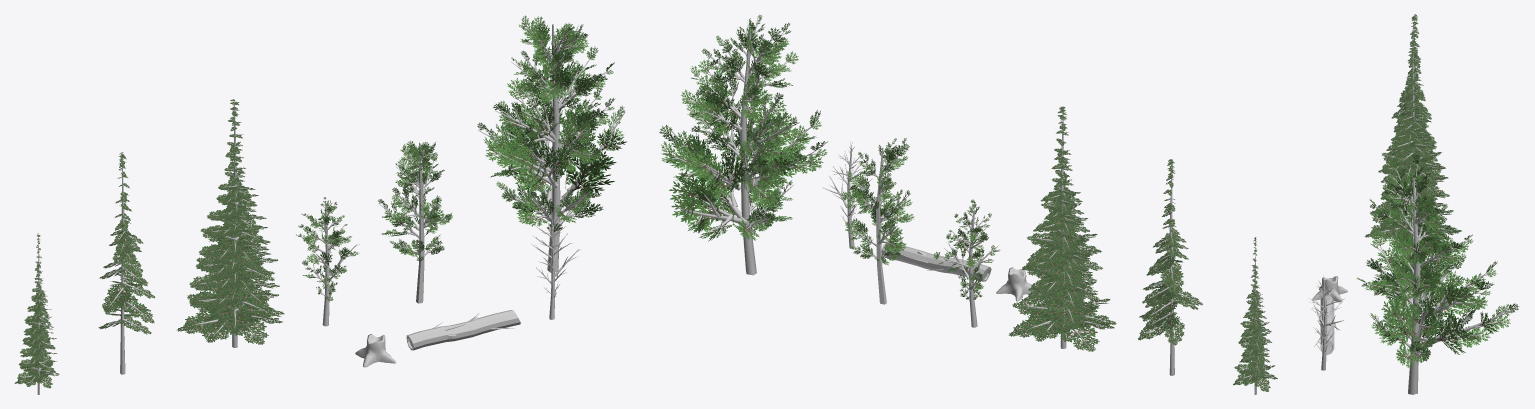
The model's file is Trees.fbx.
3 renders of one model, left to right at view 1: azimuth 30°, elevation 25°; view 2: azimuth 150°, elevation 25°; view 3: azimuth 270°, elevation 25°, orthographic. The views are drawn at different scales.
Parts seen in each view (by area): view 1: TreeL, FirTreeL, TreeM, FirTreeM, FirTreeS, TreeS, pCylinder755, pPlane1249, pCylinder756; view 2: TreeL, FirTreeL, TreeM, FirTreeM, TreeS, FirTreeS, pCylinder755, pPlane1249, pCylinder756; view 3: TreeL, FirTreeL, FirTreeM, pPlane1249, pCylinder755, TreeM, pCylinder756.
Part boxes in pixels (x1,y1,x2,y2): TreeL: (477, 15, 626, 272); FirTreeL: (176, 99, 284, 347); TreeM: (378, 141, 452, 303); FirTreeM: (98, 152, 155, 374); FirTreeS: (14, 233, 59, 394); TreeS: (296, 197, 359, 326); pCylinder755: (406, 310, 520, 350); pPlane1249: (530, 211, 580, 319); pCylinder756: (355, 334, 396, 367); TreeL: (659, 15, 827, 275); FirTreeL: (1008, 106, 1116, 351); TreeM: (841, 138, 914, 304); FirTreeM: (1138, 159, 1202, 375); TreeS: (933, 199, 1000, 327); FirTreeS: (1233, 237, 1277, 394); pCylinder755: (881, 242, 991, 281); pPlane1249: (822, 142, 871, 248); pCylinder756: (996, 267, 1035, 301); TreeL: (1356, 154, 1519, 394); FirTreeL: (1364, 38, 1461, 245); FirTreeM: (1386, 14, 1440, 177); pPlane1249: (1308, 275, 1344, 370); pCylinder755: (1314, 295, 1340, 355); TreeM: (1383, 182, 1450, 325); pCylinder756: (1312, 276, 1347, 302).
Bounding box in the file's own units: 1927 × 773 × 653.
